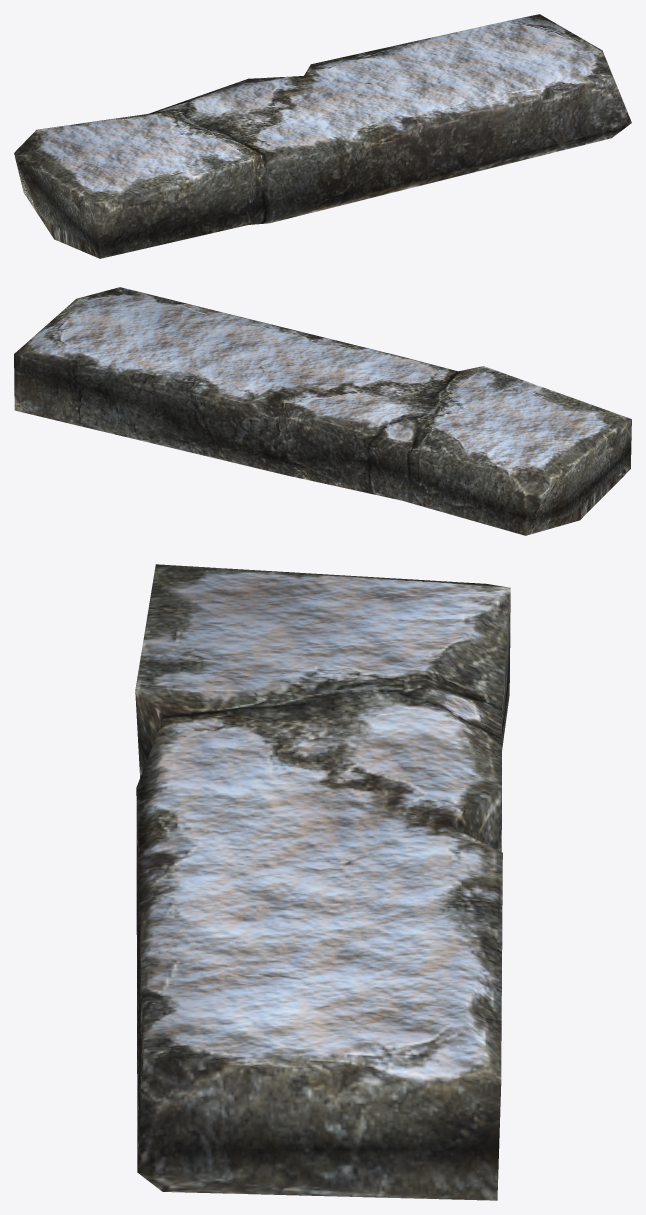
File: Staits1B_LOD.fbx
The picture shows the model from 3 angles, top to bottom: view 1: azimuth 30°, elevation 25°; view 2: azimuth 150°, elevation 25°; view 3: azimuth 270°, elevation 25°; orthographic projection. The views are drawn at different scales.
Visible parts, largest first — view 1: polySurface26; view 2: polySurface26; view 3: polySurface26.
Boxes of the visible parts, left/top/right/bottom form: polySurface26: left=14, top=14, right=631, bottom=258; polySurface26: left=14, top=287, right=631, bottom=535; polySurface26: left=135, top=564, right=510, bottom=1200.
Bounding box in the file's own units: 5.1 × 0.7397 × 1.56.
